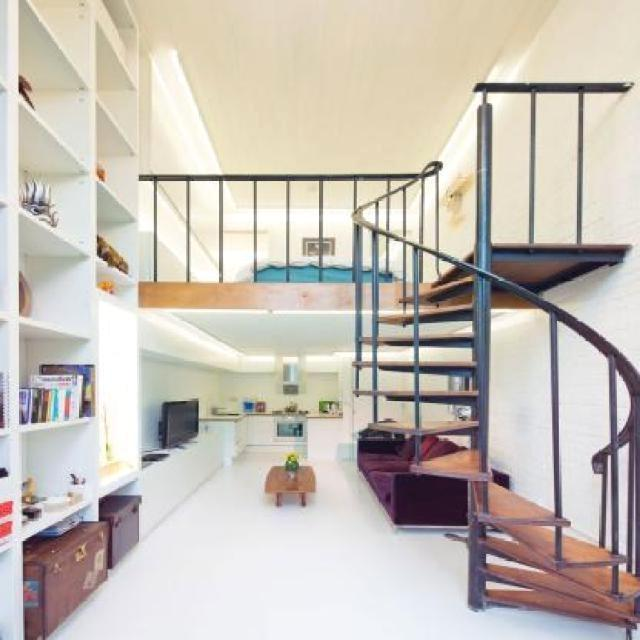stair: (363, 178, 640, 638)
